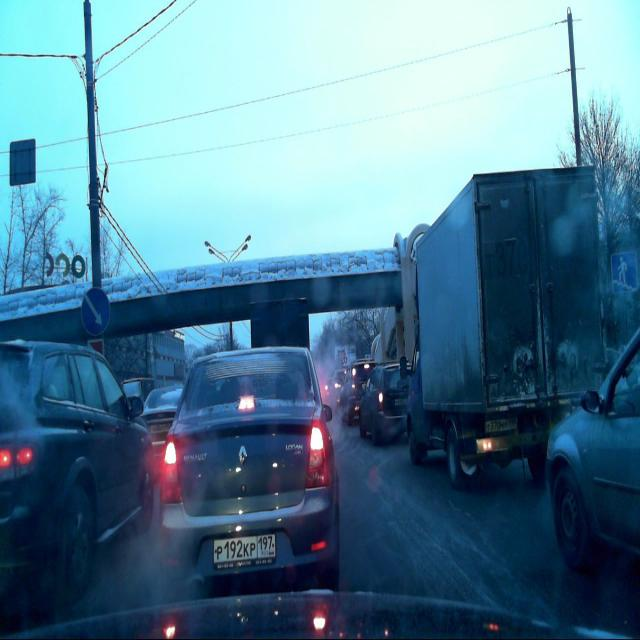road sign: (610, 251, 638, 297)
